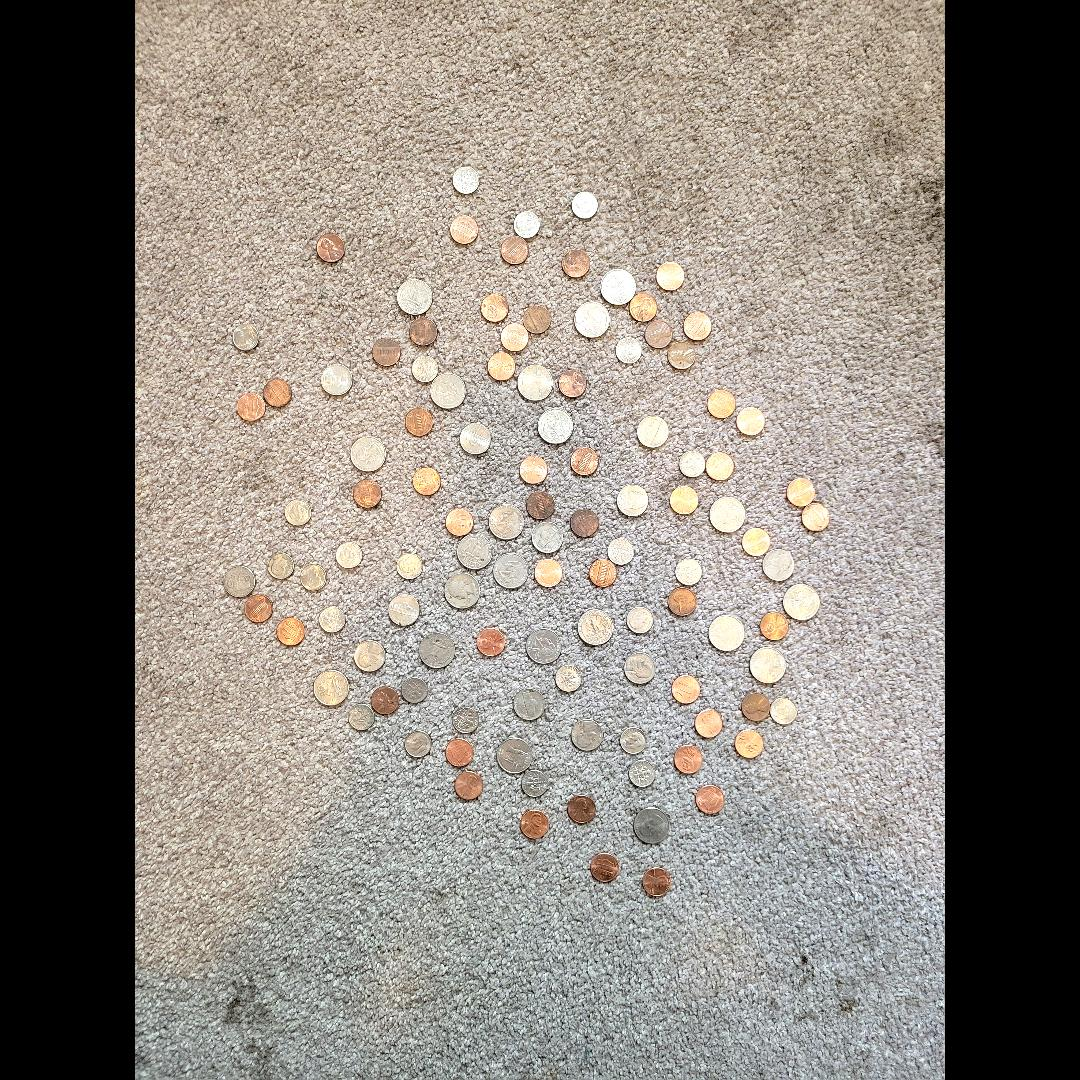Dime: (626, 604, 658, 636), (400, 675, 432, 705), (626, 759, 658, 789), (283, 497, 312, 529), (612, 334, 642, 364), (618, 728, 650, 756), (554, 664, 584, 692), (318, 606, 348, 634), (396, 553, 426, 581), (520, 771, 550, 798), (680, 449, 708, 477), (452, 705, 480, 733), (334, 543, 363, 570), (454, 165, 480, 195), (771, 697, 799, 724), (570, 193, 596, 222), (607, 538, 634, 565), (413, 354, 439, 382), (346, 704, 374, 730), (403, 730, 431, 756), (514, 212, 540, 239), (232, 324, 258, 351), (676, 558, 702, 584), (270, 554, 296, 580), (299, 566, 325, 590)
Nickel: (620, 650, 658, 686), (616, 482, 653, 518), (354, 638, 390, 674), (572, 718, 608, 754), (224, 564, 258, 600), (458, 424, 493, 458), (513, 689, 547, 722), (764, 550, 796, 584), (386, 594, 420, 626), (637, 416, 669, 448), (321, 364, 352, 396), (532, 522, 562, 554)
Penny: (315, 233, 347, 267), (656, 264, 688, 296), (670, 486, 702, 518), (371, 338, 403, 370), (743, 692, 775, 724), (448, 214, 480, 246), (707, 388, 739, 420), (787, 478, 817, 512), (410, 465, 441, 497), (762, 610, 792, 642), (474, 626, 506, 656), (568, 446, 598, 478), (499, 234, 531, 264), (801, 502, 833, 532), (237, 392, 267, 424), (674, 743, 704, 775), (352, 480, 384, 510), (590, 852, 620, 884), (705, 450, 737, 480), (696, 780, 726, 812), (404, 406, 436, 436), (684, 312, 714, 344), (560, 251, 592, 281), (566, 794, 596, 826), (370, 686, 402, 716), (736, 406, 766, 437), (667, 340, 699, 369), (558, 371, 588, 401), (740, 526, 770, 556), (520, 809, 550, 839), (673, 674, 703, 704), (734, 728, 764, 758), (694, 708, 724, 738), (488, 354, 518, 384), (444, 738, 474, 768), (645, 320, 675, 350), (522, 307, 552, 337), (532, 557, 562, 587), (276, 617, 306, 647), (479, 291, 510, 320), (668, 586, 700, 614), (501, 323, 531, 352), (243, 594, 273, 623), (454, 768, 482, 798), (518, 456, 548, 484), (446, 508, 476, 536), (409, 319, 439, 347), (630, 292, 659, 320), (588, 559, 617, 587), (266, 379, 294, 407), (645, 868, 673, 896), (570, 510, 598, 536), (526, 494, 554, 520)
Quarter: (706, 614, 748, 654), (313, 667, 353, 707), (783, 584, 823, 624), (349, 433, 389, 473), (632, 804, 672, 844), (706, 496, 748, 534), (752, 647, 791, 687), (598, 266, 636, 307), (429, 372, 469, 410), (578, 609, 618, 647), (524, 626, 562, 666), (575, 303, 613, 341), (536, 410, 576, 446), (516, 366, 554, 402), (490, 504, 528, 540), (418, 635, 456, 671), (457, 533, 494, 569), (497, 738, 534, 774), (492, 554, 528, 590), (397, 279, 433, 315), (443, 573, 480, 607)
